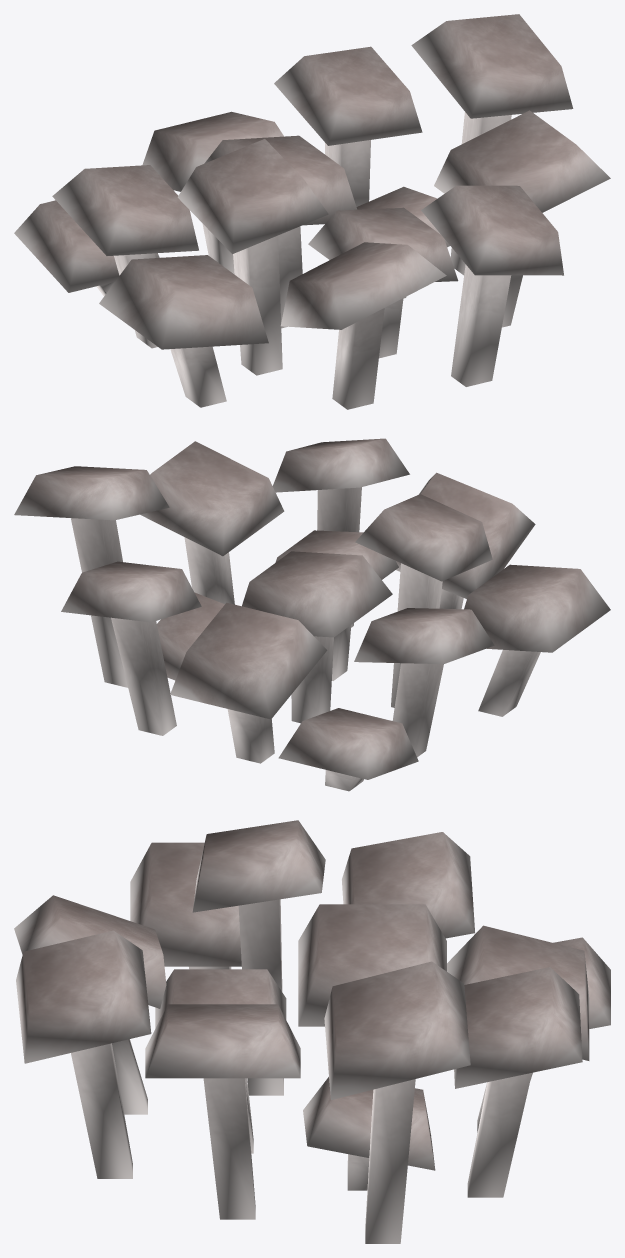
File: Mushroom1.fbx
3 views of the same model, one above another, from view 1: azimuth 30°, elevation 25°; view 2: azimuth 150°, elevation 25°; view 3: azimuth 270°, elevation 25° (orthographic). The views are drawn at different scales.
Visible parts, largest first — view 1: Mushroom1; view 2: Mushroom1; view 3: Mushroom1.
Part boxes in pixels (x1,y1,x2,y2): Mushroom1: (14,14,610,409); Mushroom1: (14,438,610,791); Mushroom1: (14,820,610,1243).
Bounding box in the file's own units: 0.2441 × 0.109 × 0.216.
